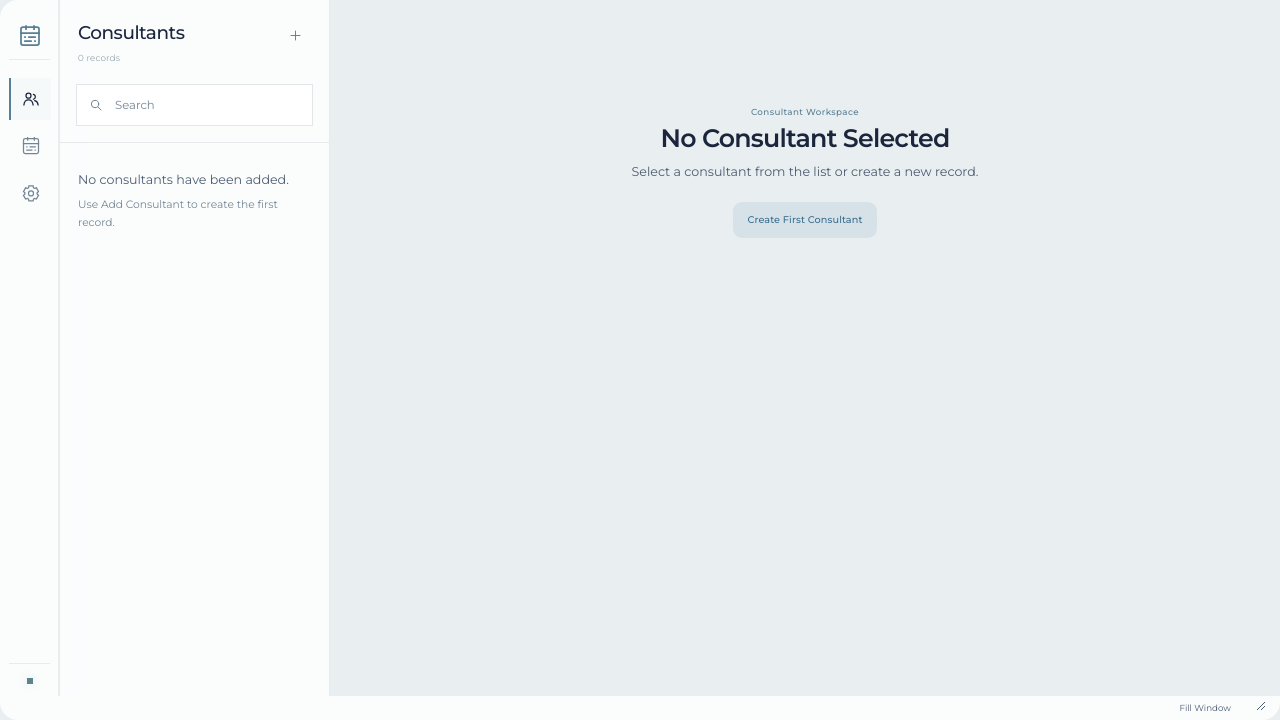
Test: consultant directory › uses quiet inline validation instead of the browser validation popup
Check: the text "No consultants have been added." is shown, box x1=78 y1=171 x2=311 y2=189
Step 1. Click the button named "Add Consultant" → (295, 36), box x1=279 y1=19 x2=311 y2=52
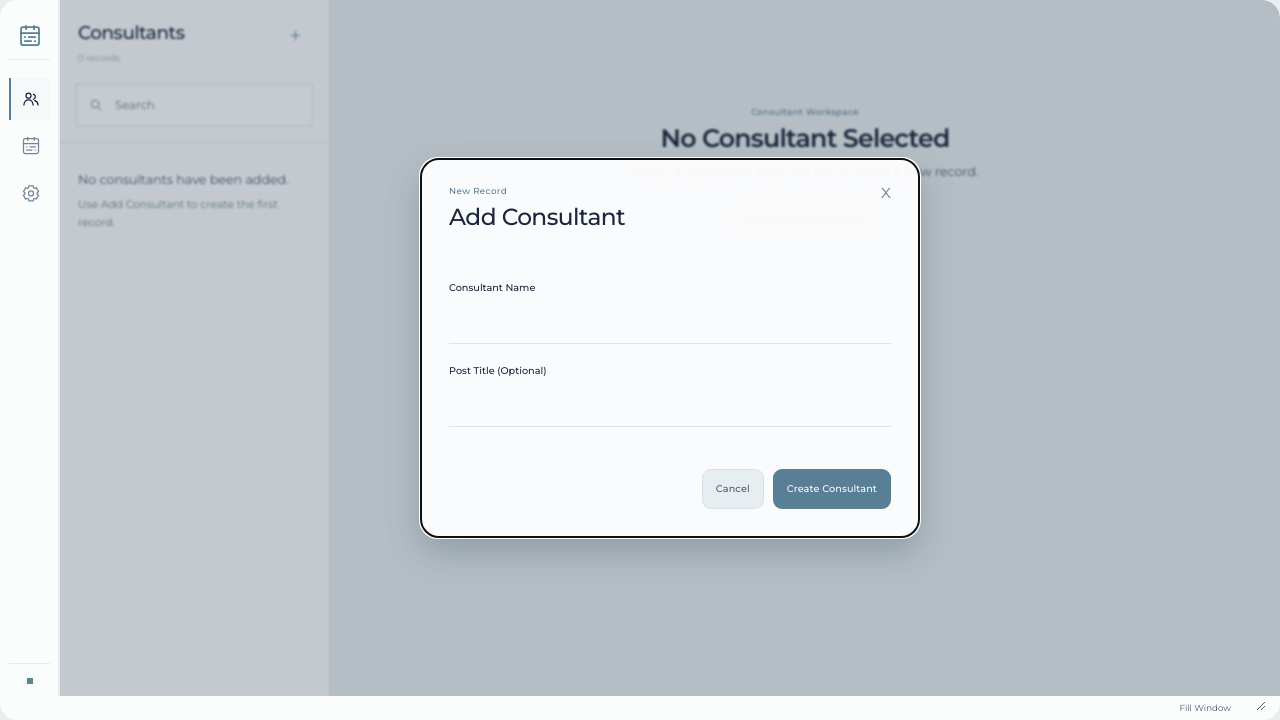
Step 2. Click the button "Create Consultant" → (832, 489), box x1=773 y1=469 x2=891 y2=509
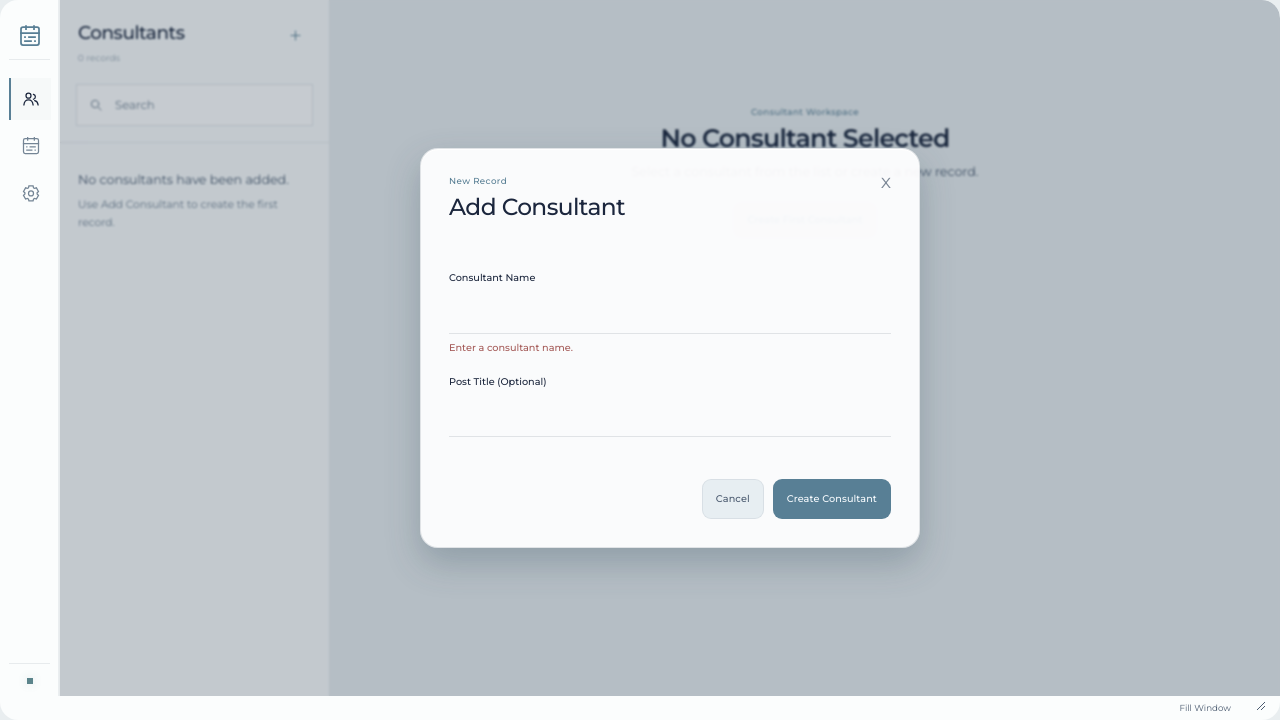
Check: the message reads "Enter a consultant name.", box x1=449 y1=342 x2=573 y2=353
